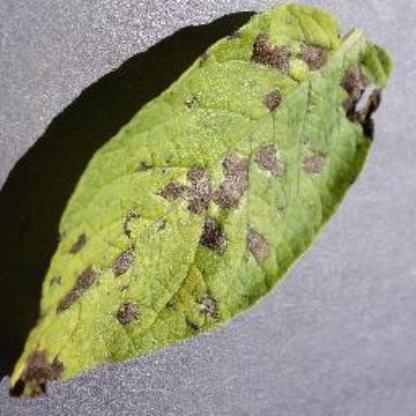Early-Blight: (11, 5, 393, 401)
